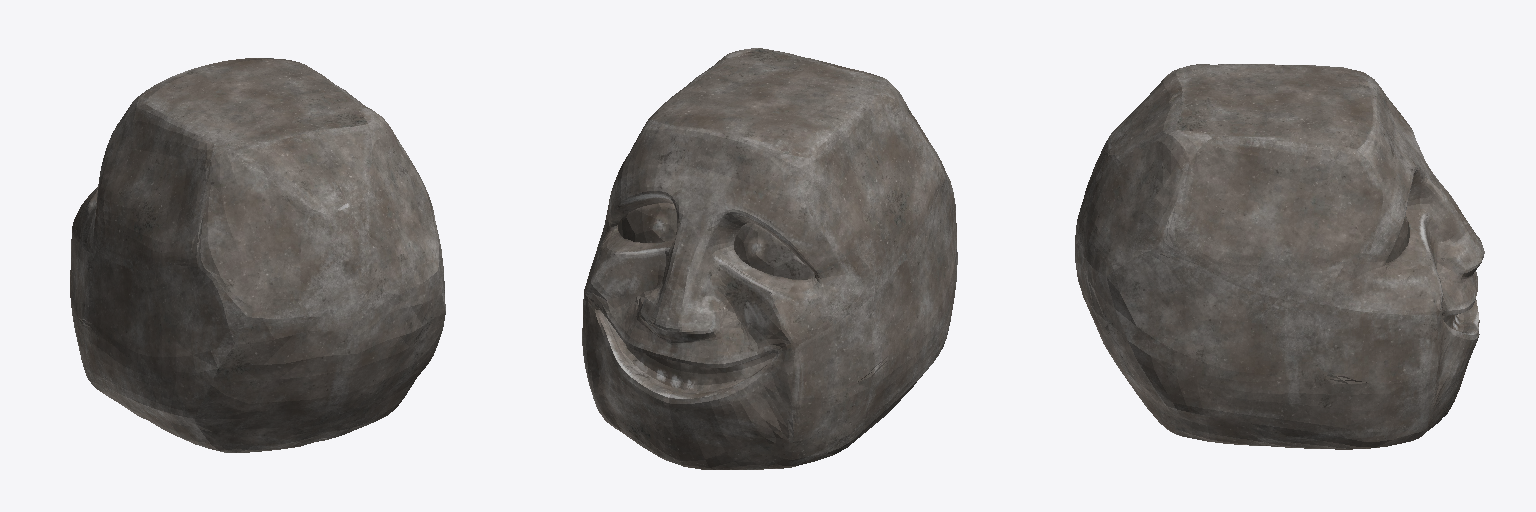
The picture shows the model from 3 angles: view 1: azimuth 30°, elevation 25°; view 2: azimuth 150°, elevation 25°; view 3: azimuth 270°, elevation 25°; orthographic projection.
Parts seen in each view (by area): view 1: defaultMaterial; view 2: defaultMaterial; view 3: defaultMaterial.
Boxes of the visible parts, x1=… form: defaultMaterial: x1=70, y1=58, x2=445, y2=452; defaultMaterial: x1=582, y1=48, x2=957, y2=469; defaultMaterial: x1=1075, y1=64, x2=1484, y2=449.
Size of the model in its own units: 3.2 by 3.45 by 3.97.
Materials: 1 (1 with a texture image).